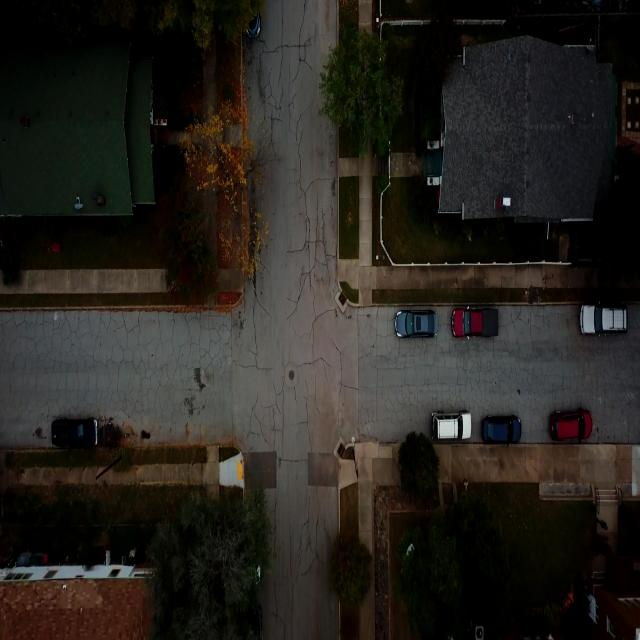Car: (580, 303, 630, 335), (51, 416, 98, 448), (550, 409, 594, 441), (480, 414, 523, 445), (432, 411, 472, 442), (395, 310, 438, 338), (244, 0, 262, 38)
Truck: (451, 305, 500, 340)
